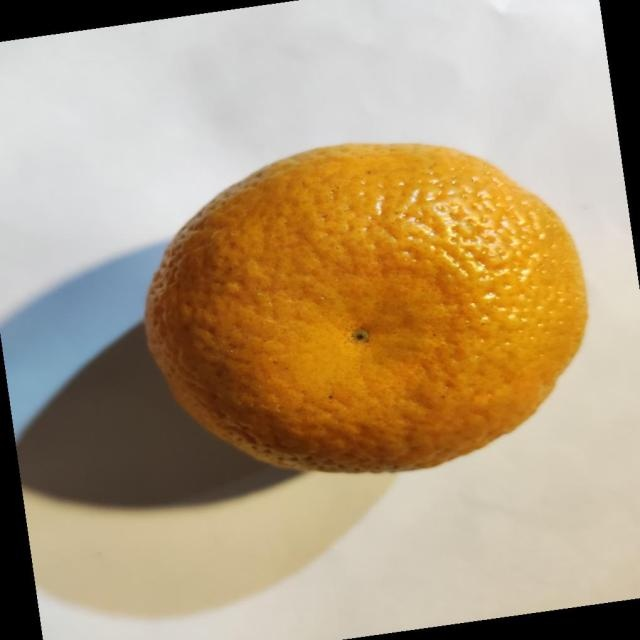agrume: (143, 141, 589, 475)
